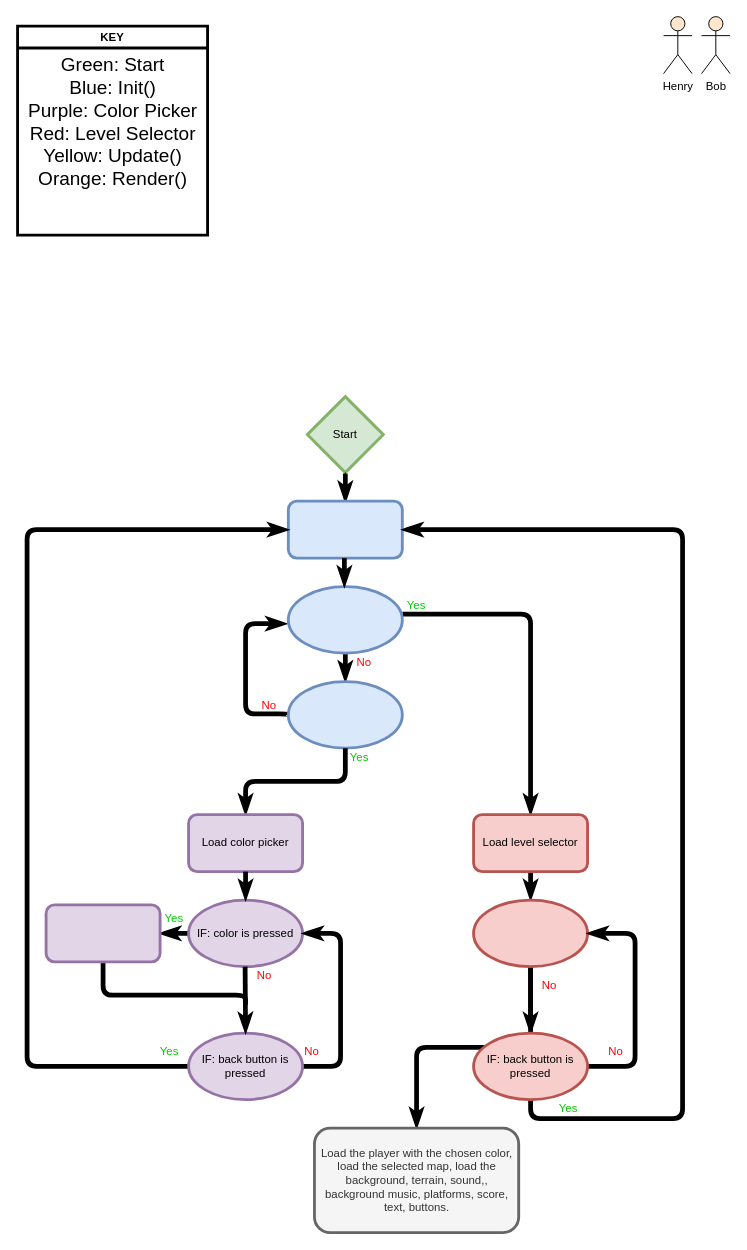
This 747x1250 diagram has some shape labels left out. The centre of each missing label's shape, as x and y in pixels:
"Change player color to the selected color" belongs at pixel 102 933.
"IF: color picker button is pressed" belongs at pixel 344 714.
"IF: level is pressed" belongs at pixel 530 933.
"IF: start button is pressed" belongs at pixel 344 619.
"Load menu screen" belongs at pixel 344 529.
